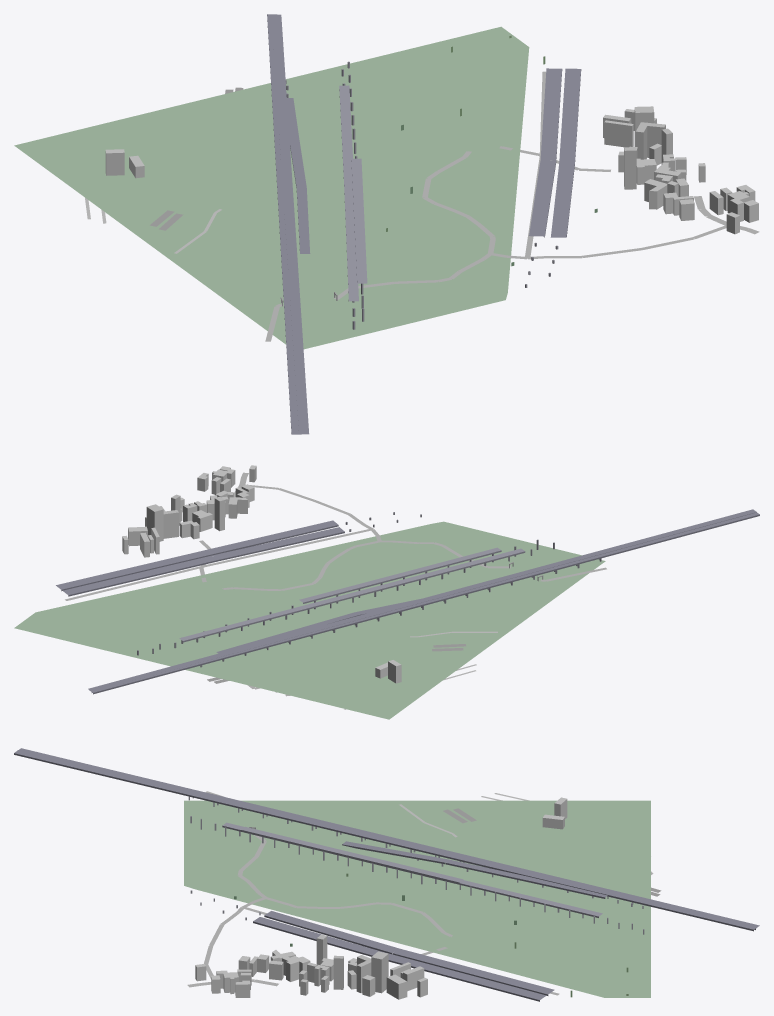
The picture shows the model from 3 angles, top to bottom: view 1: azimuth 30°, elevation 25°; view 2: azimuth 150°, elevation 25°; view 3: azimuth 270°, elevation 25°; orthographic projection. The views are drawn at different scales.
Size of the model in its own units: 618 by 42.6 by 799.
